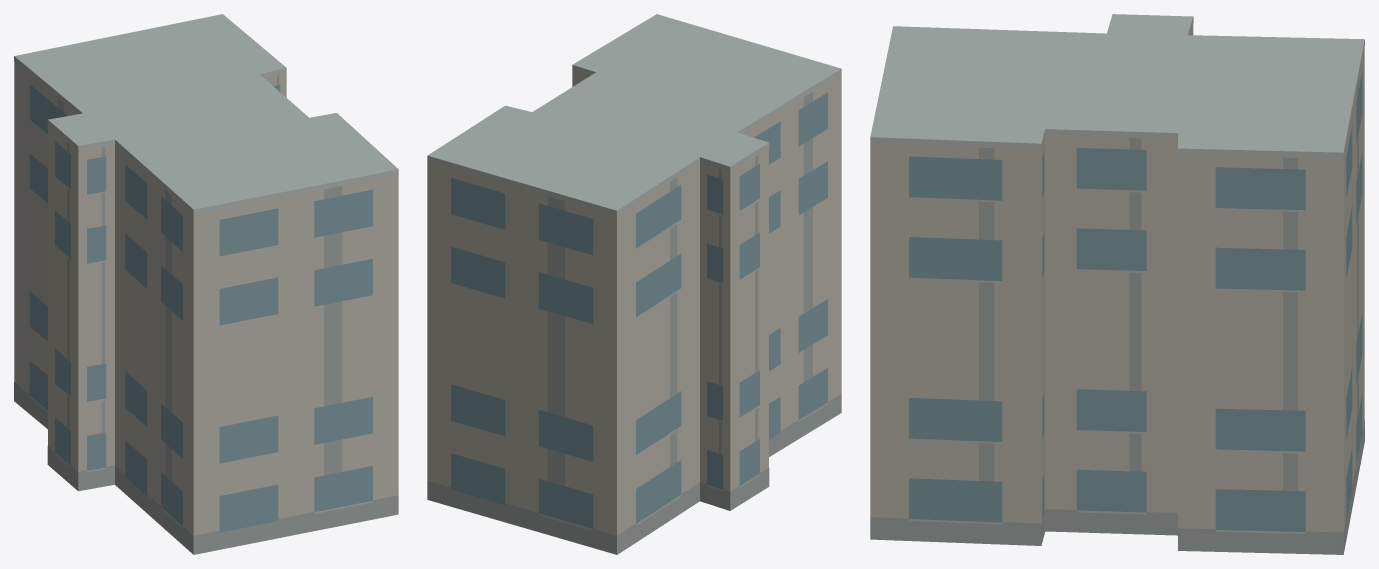
File: survey-upis-32585357.glb
3 views of the same model, side by side, from view 1: azimuth 30°, elevation 25°; view 2: azimuth 150°, elevation 25°; view 3: azimuth 270°, elevation 25° (orthographic). The views are drawn at different scales.
Parts seen in each view (by area): view 1: survey-upis-32585357.tmp; view 2: survey-upis-32585357.tmp; view 3: survey-upis-32585357.tmp.
Boxes of the visible parts, x1,y1,x2,y2 form: survey-upis-32585357.tmp: [14, 14, 398, 554]; survey-upis-32585357.tmp: [427, 14, 841, 554]; survey-upis-32585357.tmp: [870, 14, 1364, 554].
Size of the model in its own units: 11.27 by 15.25 by 17.
